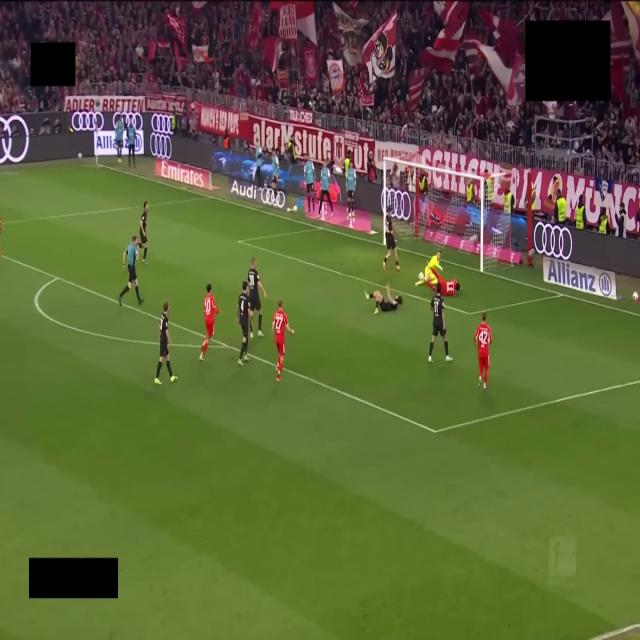ball: (418, 272, 423, 280)
player: (154, 302, 177, 384), (429, 283, 452, 362), (272, 299, 294, 381), (247, 258, 266, 338), (200, 284, 219, 360), (474, 312, 492, 391), (236, 281, 252, 365), (365, 284, 402, 313), (383, 212, 400, 271), (415, 251, 442, 287), (432, 271, 460, 295), (139, 201, 147, 263), (0, 218, 1, 233)
referee: (119, 236, 143, 304)
